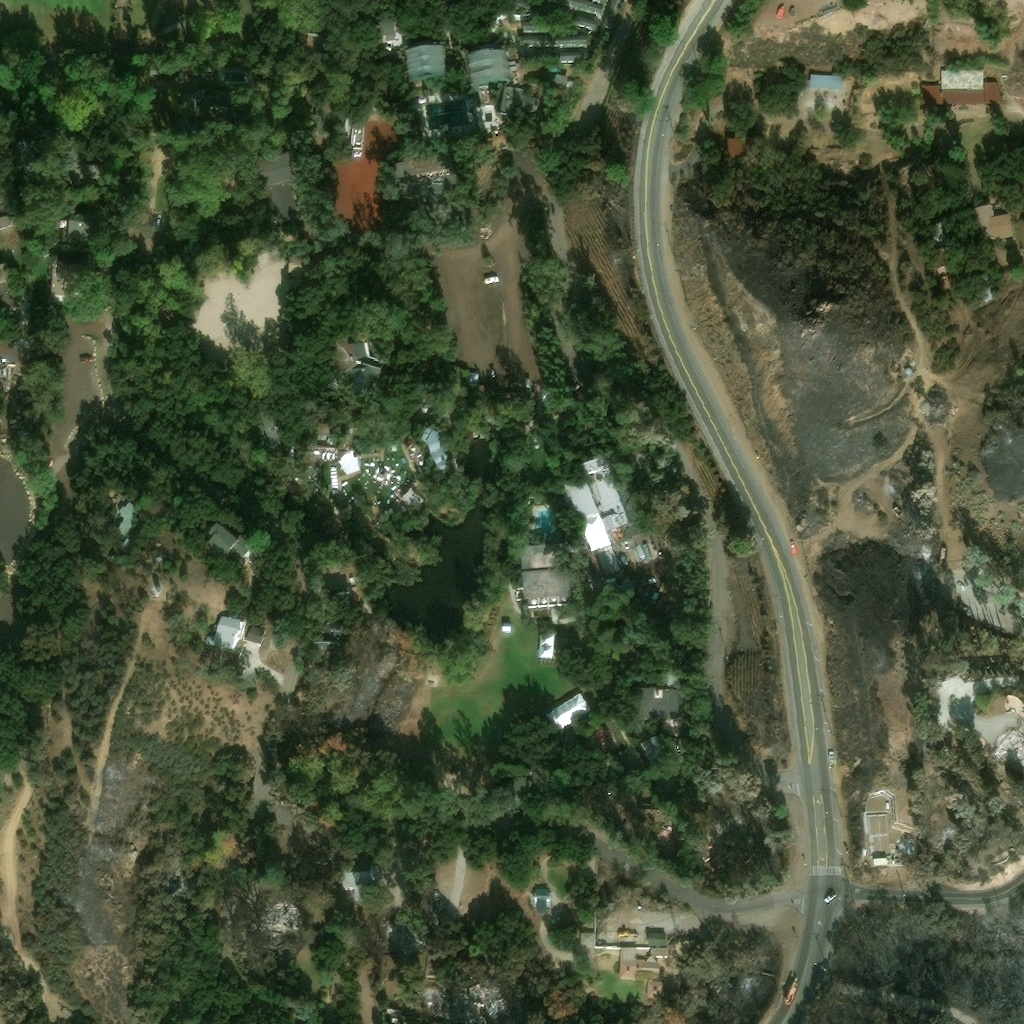0 no-damage: (324, 103, 401, 239), (560, 474, 610, 553), (580, 459, 628, 531), (329, 333, 385, 387), (402, 41, 453, 89), (971, 200, 1017, 251), (201, 518, 254, 562), (920, 78, 1004, 105), (519, 568, 574, 609), (255, 181, 300, 228), (544, 690, 592, 732), (465, 48, 517, 85), (306, 618, 344, 666), (629, 685, 681, 720), (417, 423, 452, 474), (253, 148, 296, 186), (518, 540, 569, 569), (65, 147, 103, 185), (204, 613, 242, 650), (110, 500, 145, 539), (497, 85, 539, 116), (255, 409, 286, 451), (340, 869, 374, 901), (518, 32, 585, 48), (557, 9, 599, 34), (639, 732, 668, 768), (375, 13, 404, 48), (306, 441, 349, 464), (690, 835, 718, 870), (47, 259, 68, 304), (485, 12, 521, 37), (940, 69, 984, 89), (617, 960, 660, 978), (67, 212, 91, 244), (545, 0, 603, 13), (405, 438, 427, 472), (652, 819, 679, 846), (723, 810, 749, 838), (536, 627, 555, 659), (726, 133, 748, 159), (338, 448, 360, 474), (809, 70, 842, 87), (400, 487, 424, 510), (979, 272, 996, 304), (530, 884, 550, 911), (324, 575, 348, 596), (601, 0, 621, 25), (517, 18, 550, 33), (460, 367, 480, 391), (443, 27, 459, 57), (928, 220, 948, 244), (244, 623, 265, 644), (550, 69, 573, 88), (308, 462, 321, 495), (384, 1004, 406, 1023), (558, 49, 587, 61), (599, 754, 616, 771), (429, 890, 441, 913), (937, 270, 954, 286), (646, 930, 665, 944), (56, 218, 66, 244), (0, 214, 12, 234), (620, 946, 634, 960), (647, 948, 661, 962), (578, 932, 594, 944), (0, 261, 9, 281), (870, 856, 887, 866), (287, 442, 298, 457), (903, 364, 912, 374), (500, 624, 511, 632), (291, 476, 300, 484), (0, 432, 7, 442), (330, 480, 338, 488), (383, 45, 392, 52), (328, 489, 338, 495), (330, 474, 337, 478), (330, 468, 335, 473)
3 destroyed: (891, 463, 921, 496), (460, 981, 481, 1023), (999, 724, 1023, 759), (427, 981, 453, 1012), (480, 989, 505, 1019), (856, 810, 867, 835), (904, 837, 915, 858), (516, 993, 528, 1006), (0, 367, 6, 379)
4 un-classified: (644, 587, 683, 618), (367, 465, 400, 488), (392, 479, 410, 501), (344, 481, 354, 496), (406, 474, 415, 484), (382, 447, 392, 455), (361, 458, 371, 466), (361, 468, 369, 476), (354, 477, 361, 485), (396, 469, 403, 476), (386, 460, 393, 467), (385, 491, 391, 497), (376, 460, 382, 466), (383, 498, 388, 503)
